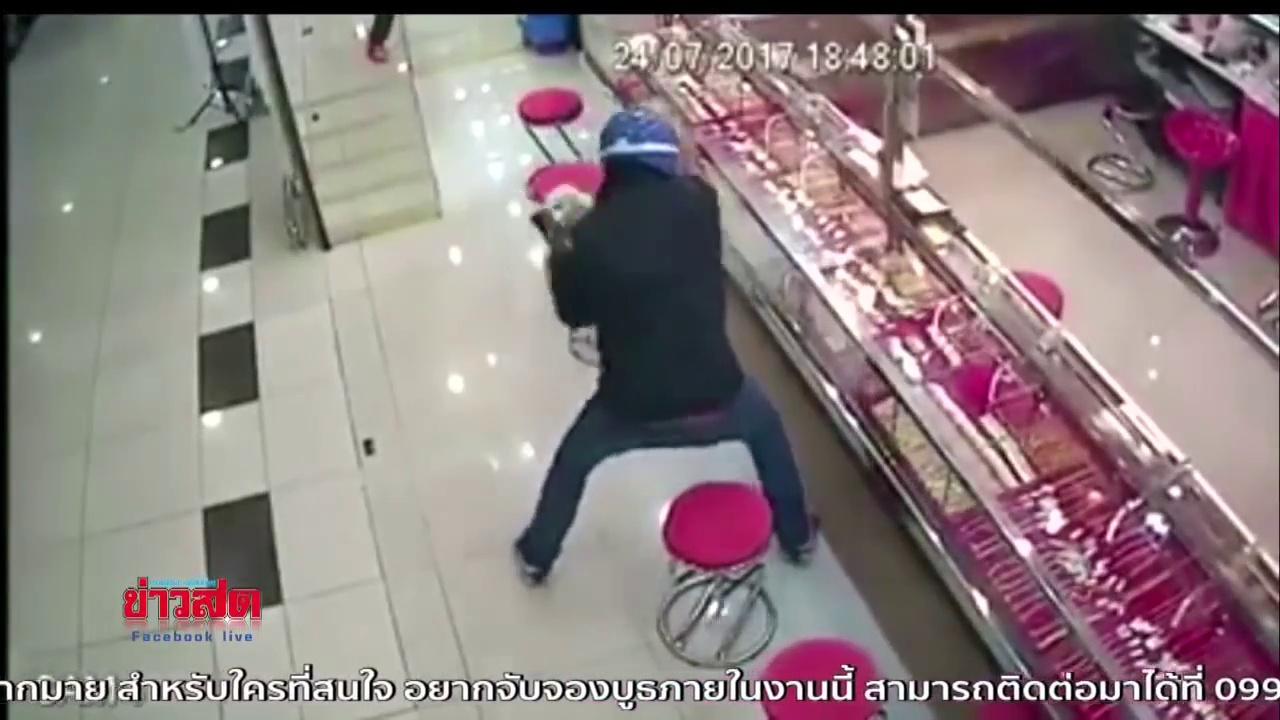helmet: (597, 102, 686, 171)
